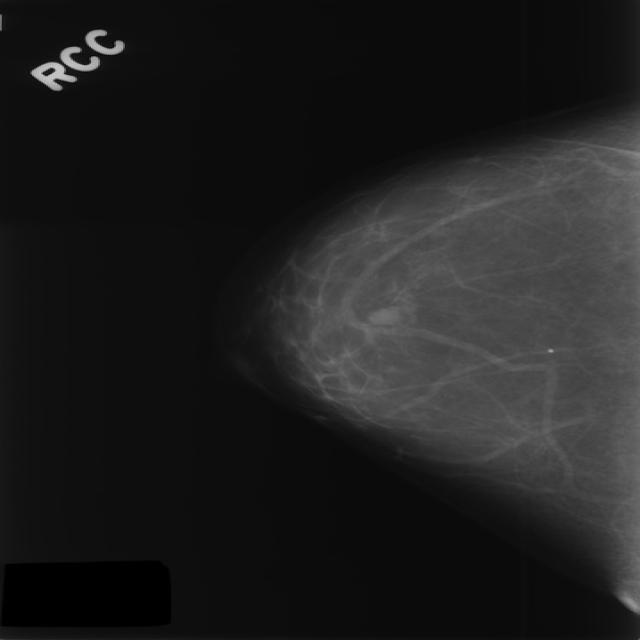tumour: (366, 304, 400, 325)
